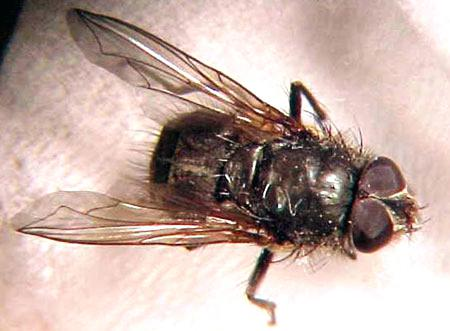fly: (13, 8, 443, 331)
